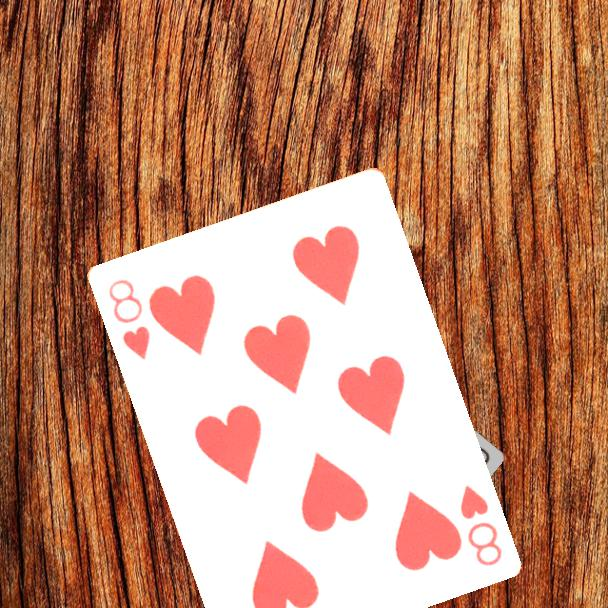h08: (455, 481, 505, 569), (104, 275, 153, 363)
